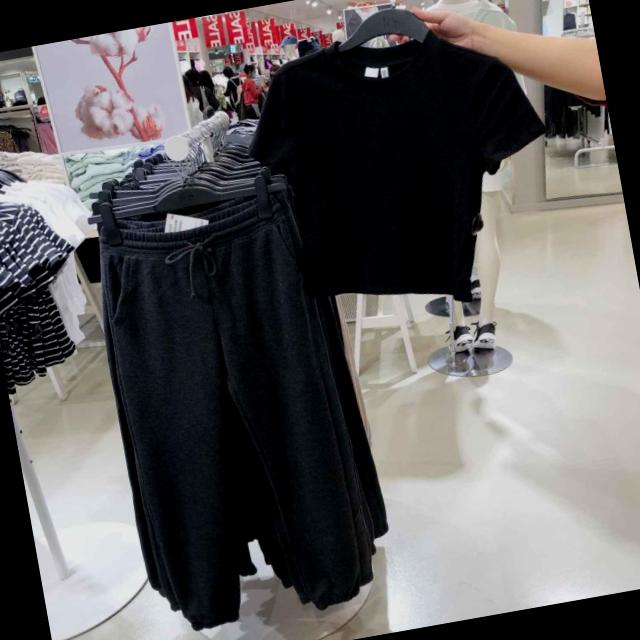Tshirt: (245, 3, 588, 316)
pants: (64, 166, 406, 632)
